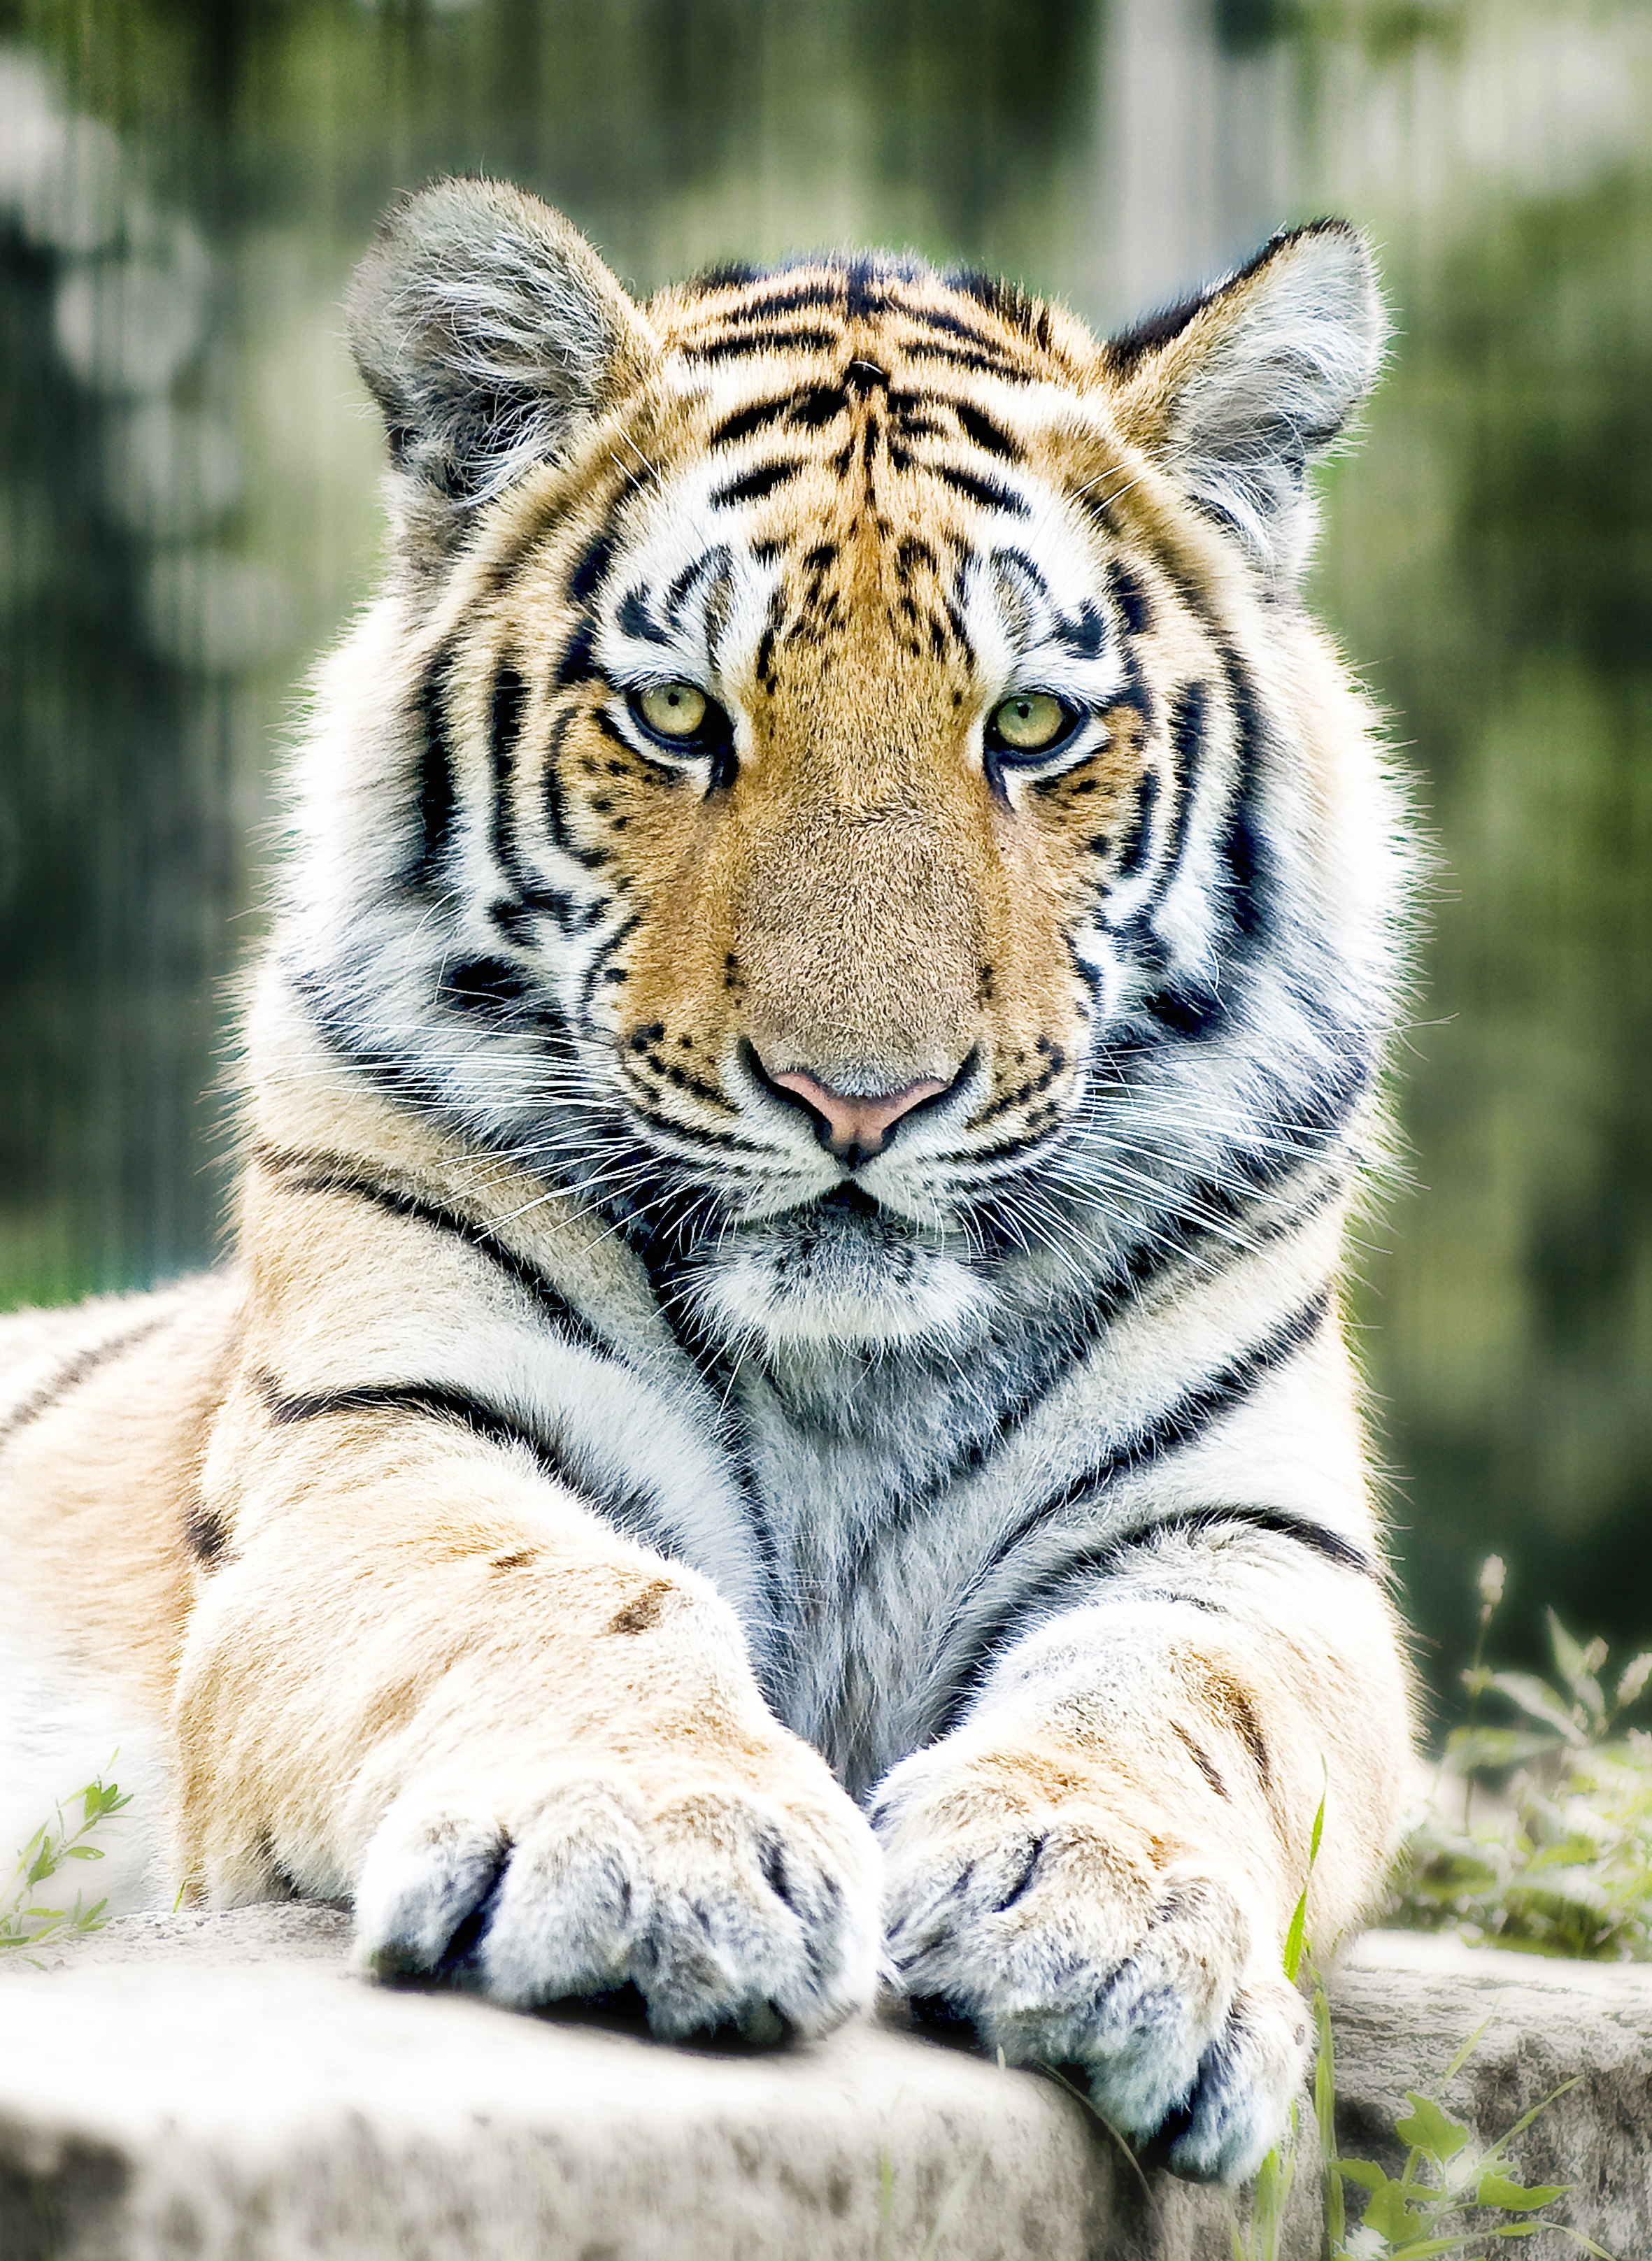tiger: (114, 128, 1515, 2173)
